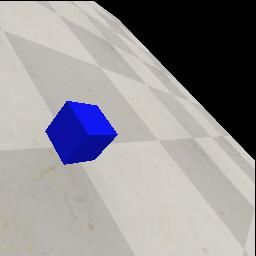box: (45, 101, 118, 165)
